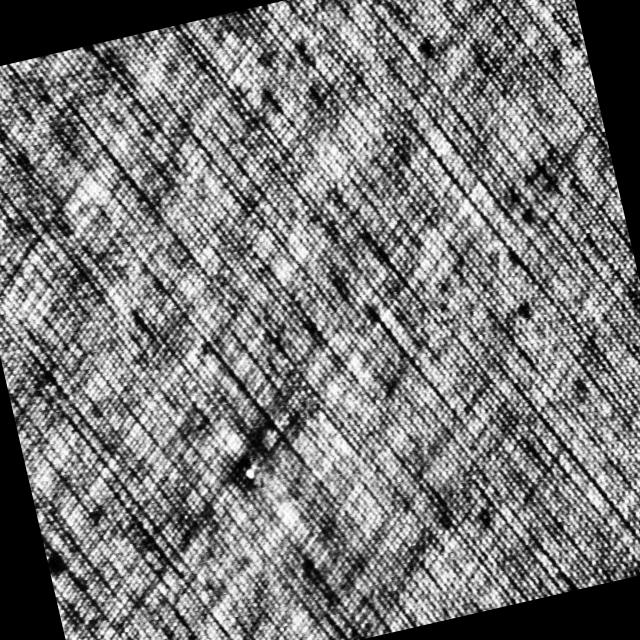cut: (226, 437, 278, 524)
